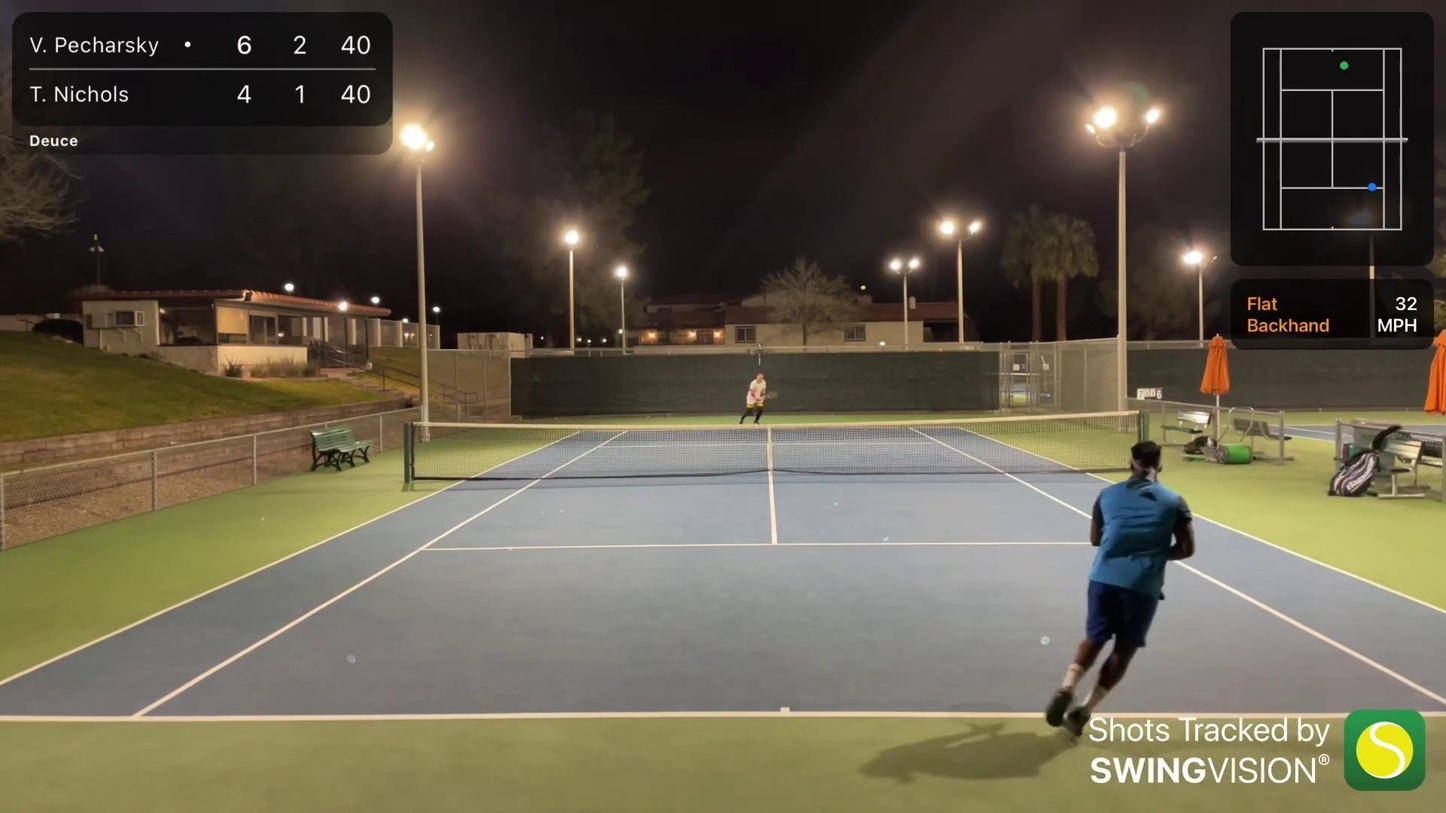ball: (860, 284, 868, 291)
